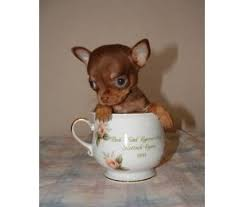chihuahua: (64, 35, 188, 136)
